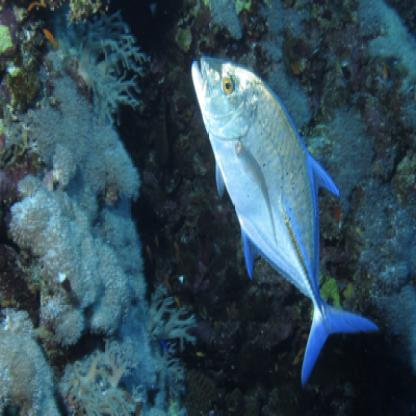jack: (181, 42, 382, 389)
